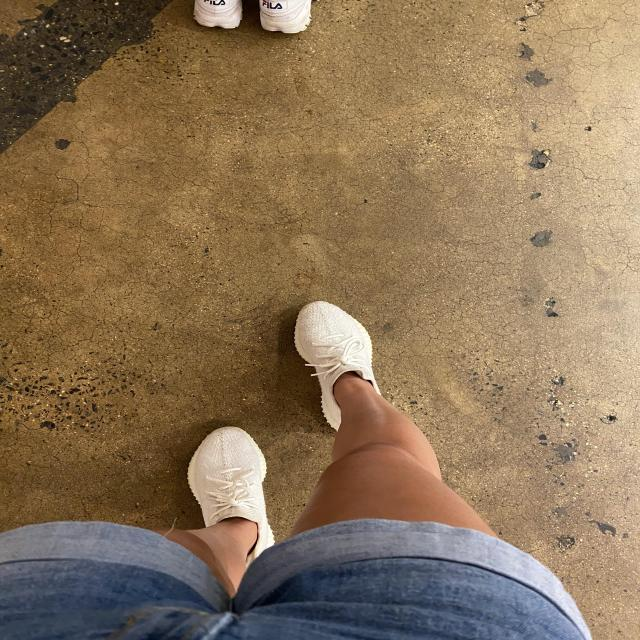shoe: (292, 298, 390, 436), (185, 426, 278, 561), (256, 0, 314, 36), (190, 0, 249, 29)
